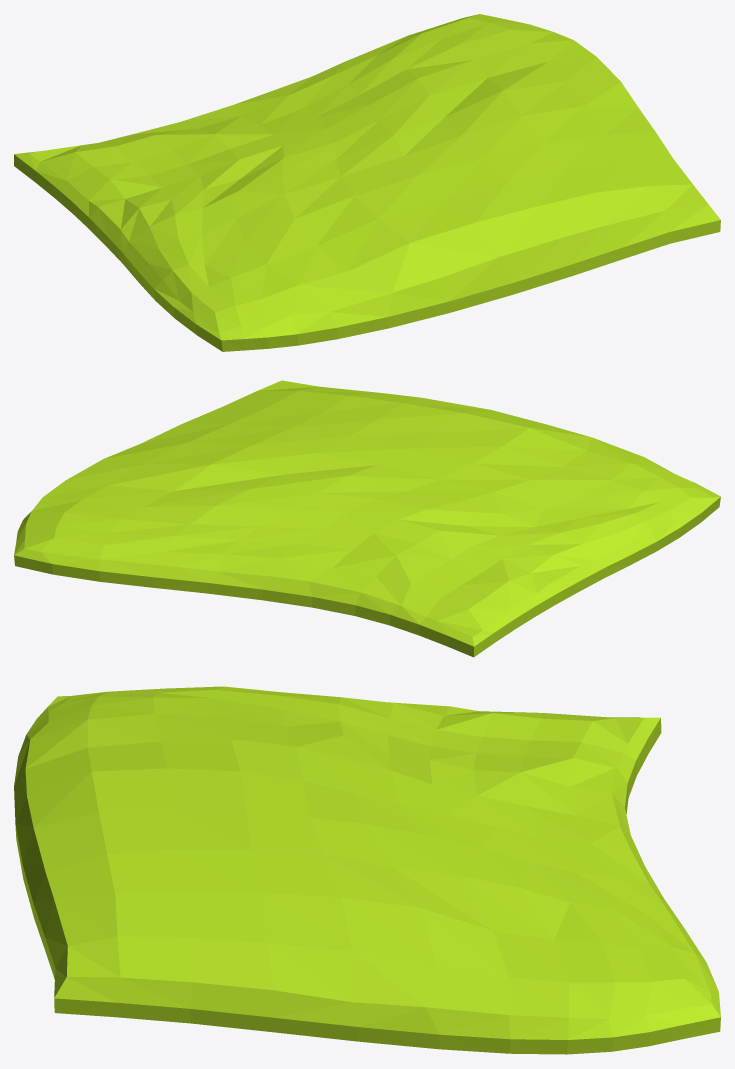
File: Slowdown.fbx
The picture shows the model from 3 angles, top to bottom: view 1: azimuth 30°, elevation 25°; view 2: azimuth 150°, elevation 25°; view 3: azimuth 270°, elevation 25°; orthographic projection. The views are drawn at different scales.
Visible parts, largest first — view 1: Slowdown; view 2: Slowdown; view 3: Slowdown.
Part boxes in pixels (x1,y1,x2,y2): Slowdown: (14,14,720,351); Slowdown: (14,380,720,657); Slowdown: (14,686,720,1054).
Bounding box in the file's own units: 2.63 × 0.2429 × 2.28.
